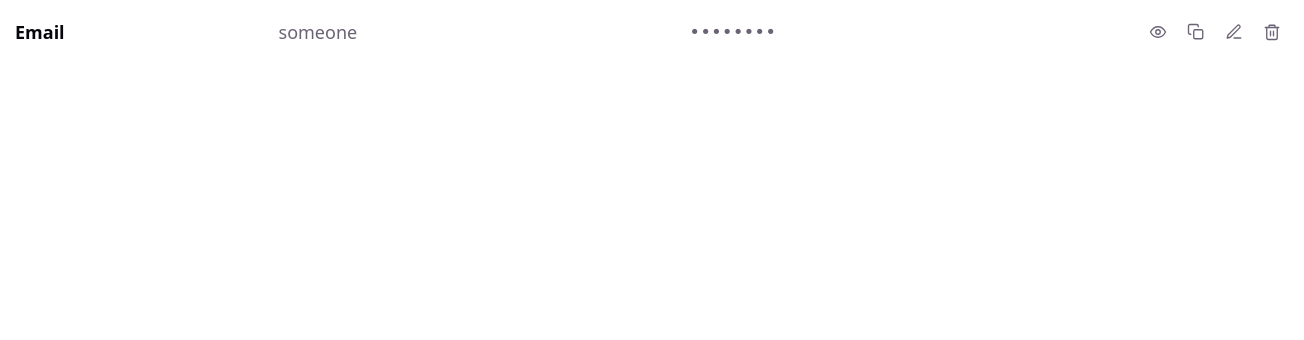
PasswordItem › exits edit mode after a successful save
Click the button named "Edit entry" at (1234, 32), box [1217,15,1251,49]
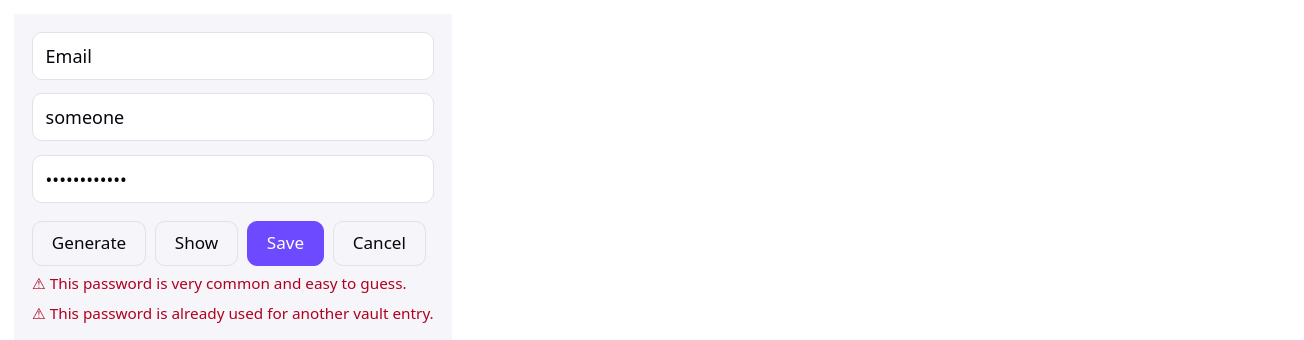
Click the button "Save" at (285, 243), box [247,221,324,266]
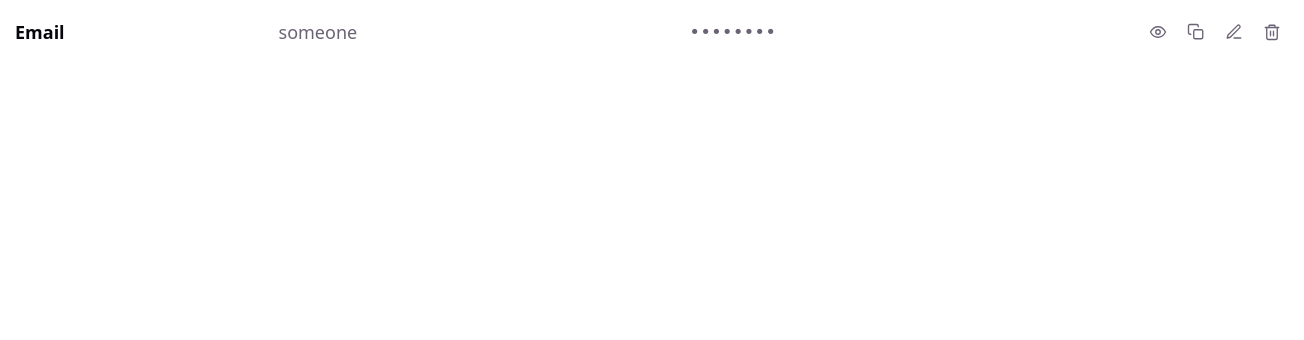
Expected: the text "Email" is shown, [14,14,276,50]
